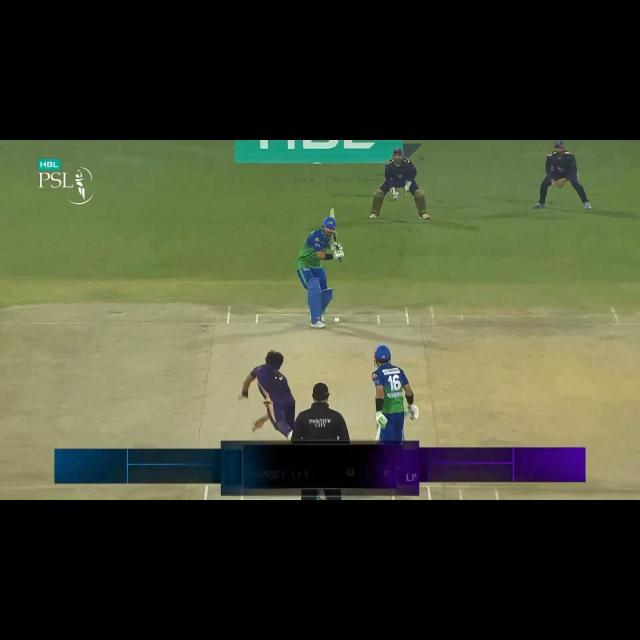bat: (333, 233, 338, 243)
toe: (326, 208, 336, 218)
